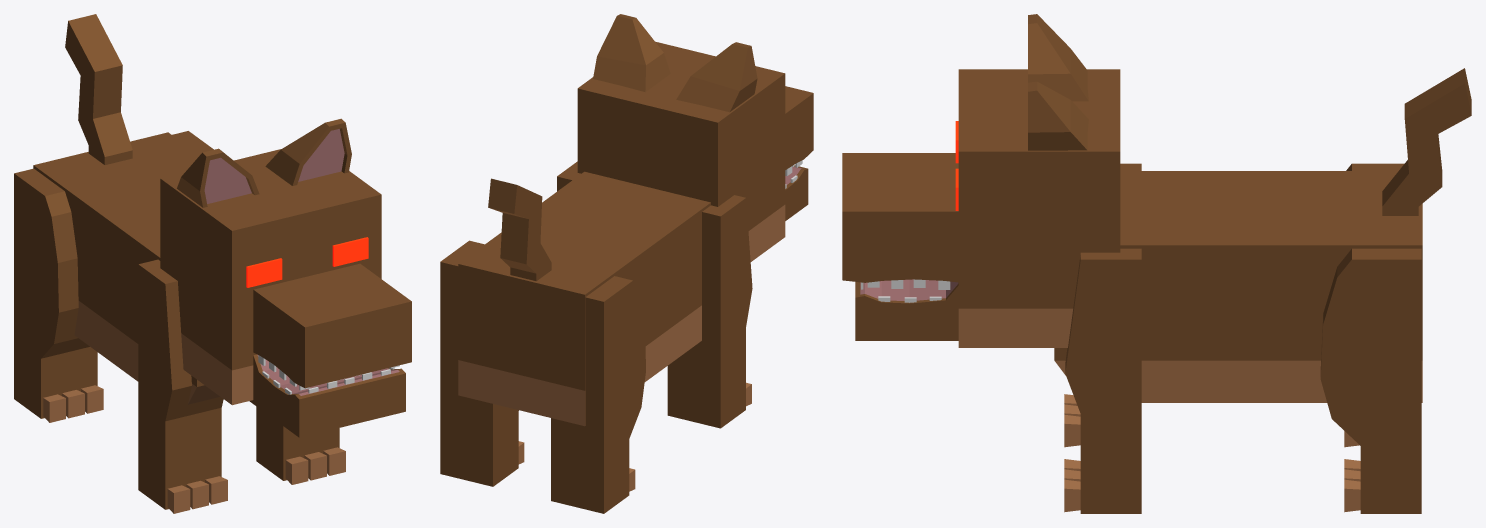
The model's file is Anjing Ganas.fbx.
The picture shows the model from 3 angles, left to right: view 1: azimuth 30°, elevation 25°; view 2: azimuth 150°, elevation 25°; view 3: azimuth 270°, elevation 25°; orthographic projection. The views are drawn at different scales.
Parts seen in each view (by area): view 1: Dog; view 2: Dog; view 3: Dog.
Boxes of the visible parts, x1,y1,x2,y2 form: Dog: [14, 14, 411, 513]; Dog: [440, 14, 813, 513]; Dog: [842, 14, 1471, 513].
Bounding box in the file's own units: 41.07 × 82.61 × 114.
